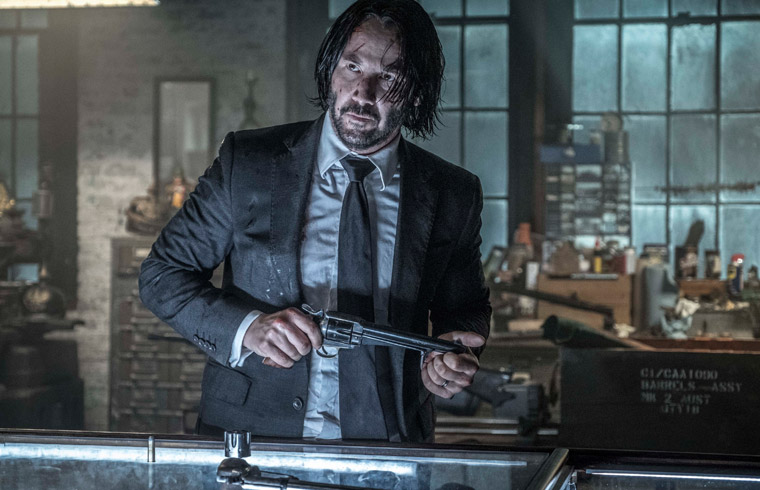gun: (257, 292, 477, 378)
